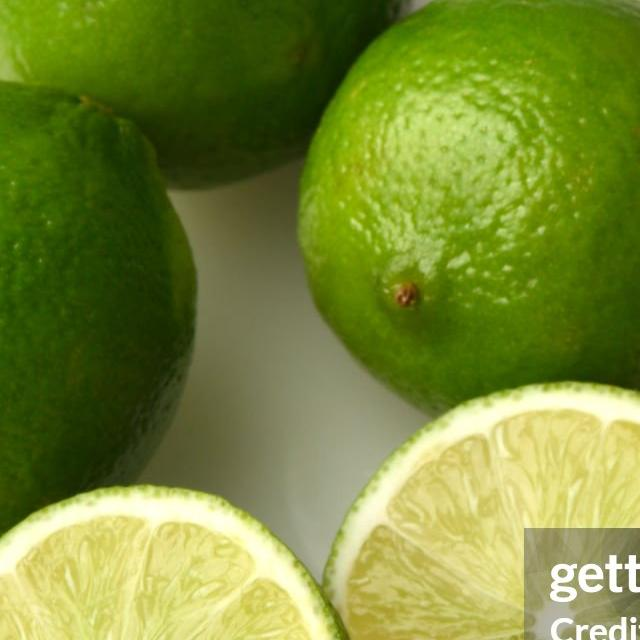lime: (0, 82, 205, 547)
